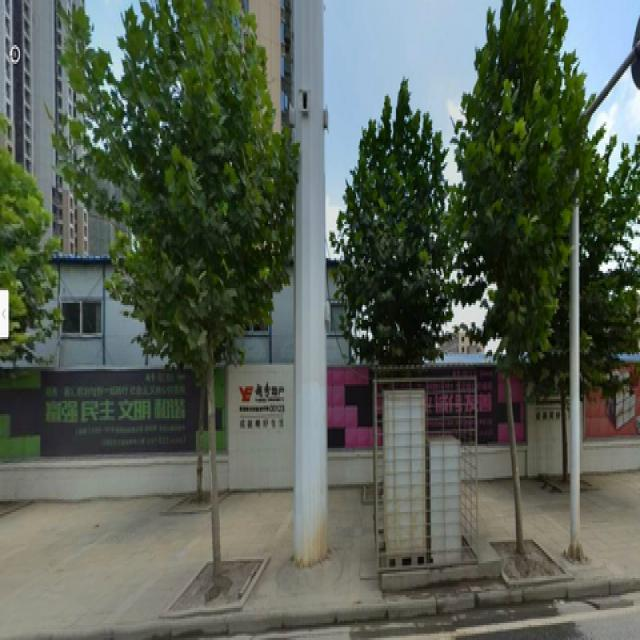meta: (104, 9, 287, 568)
